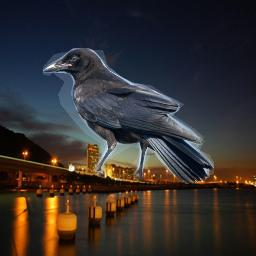Crow: (43, 48, 214, 184)
